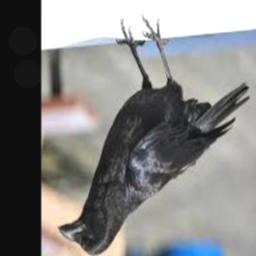Crow: (57, 18, 248, 256)
